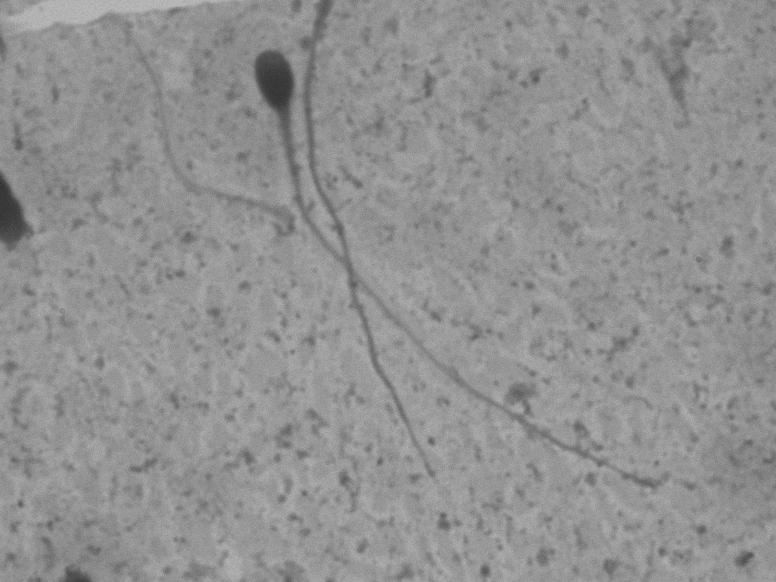Normal: (247, 33, 664, 497)
